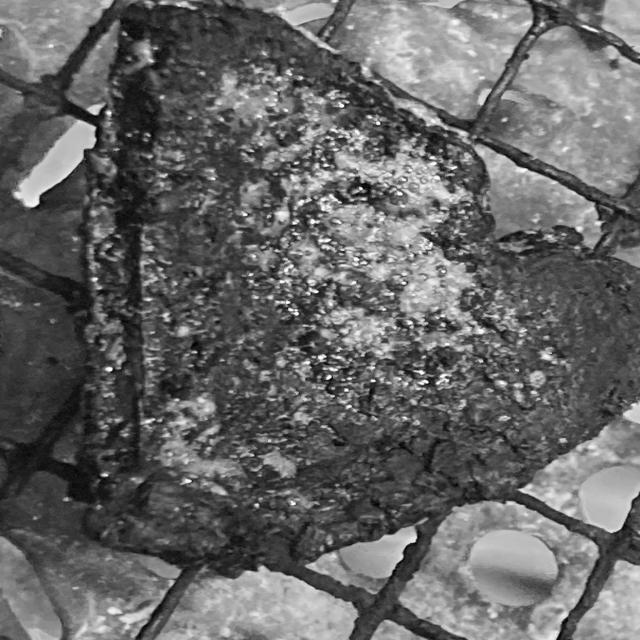overcooked beef,: (51, 0, 640, 572)
